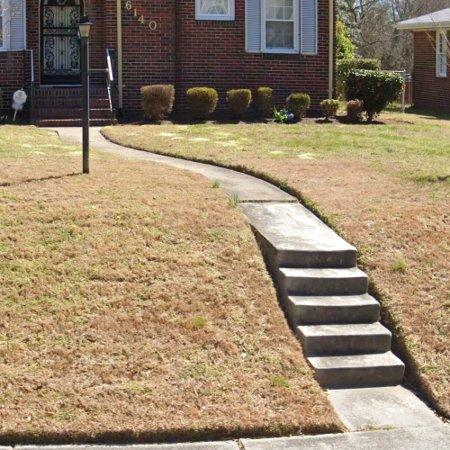stairs: (242, 203, 406, 390)
